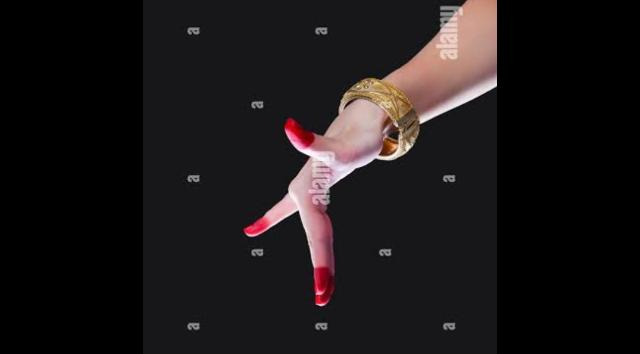mrighasheesh: (276, 82, 421, 302)
